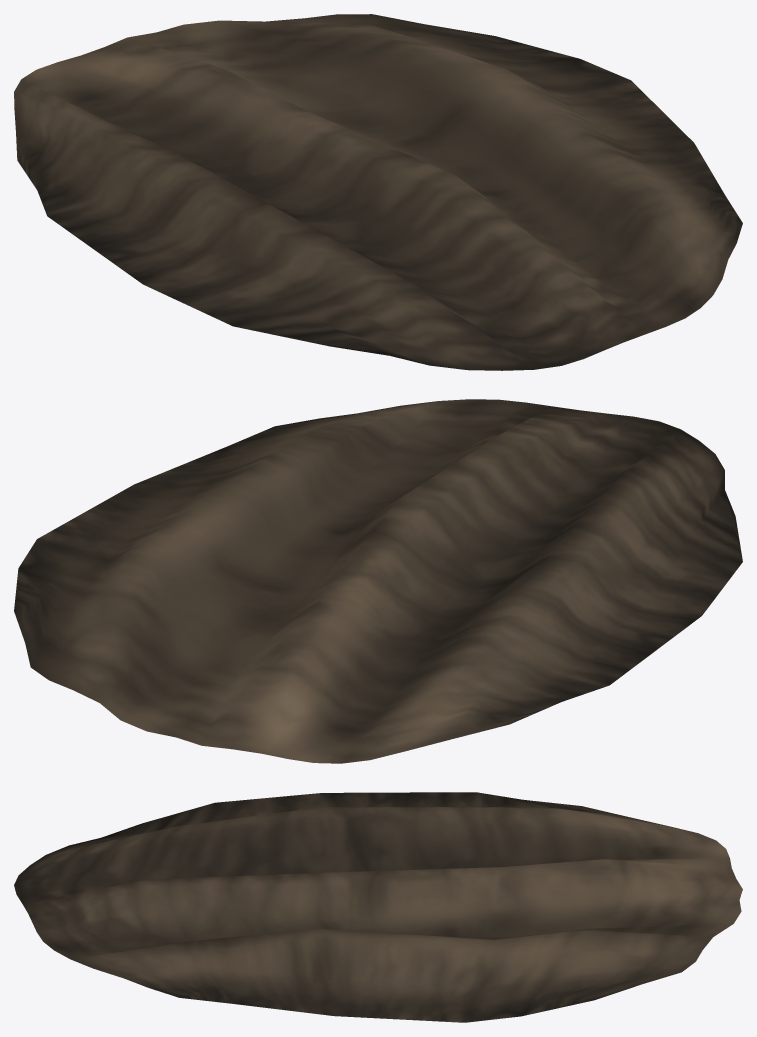
File: assets_gardendirt.fbx
3 views of the same model, one above another, from view 1: azimuth 30°, elevation 25°; view 2: azimuth 150°, elevation 25°; view 3: azimuth 270°, elevation 25° (orthographic). The views are drawn at different scales.
Parts seen in each view (by area): view 1: assets_gardendirt; view 2: assets_gardendirt; view 3: assets_gardendirt.
Part boxes in pixels (x1,y1,x2,y2): assets_gardendirt: (14, 14, 742, 370); assets_gardendirt: (14, 399, 742, 763); assets_gardendirt: (14, 792, 742, 1022).
Bounding box in the file's own units: 9.42 × 0.6158 × 12.58.
